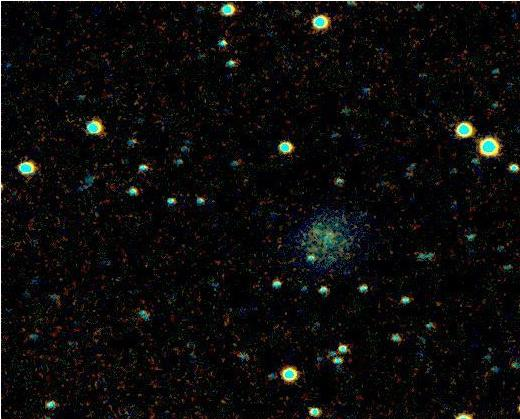star: (317, 225, 347, 255)
